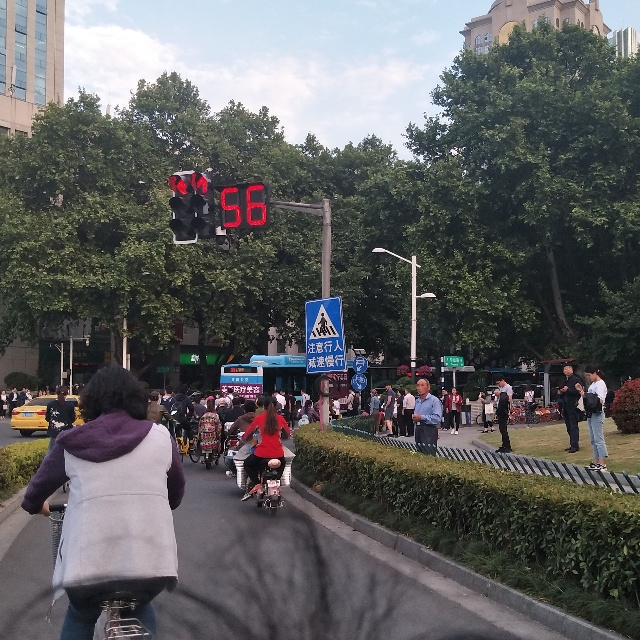crosswalk: (305, 297, 347, 375)
